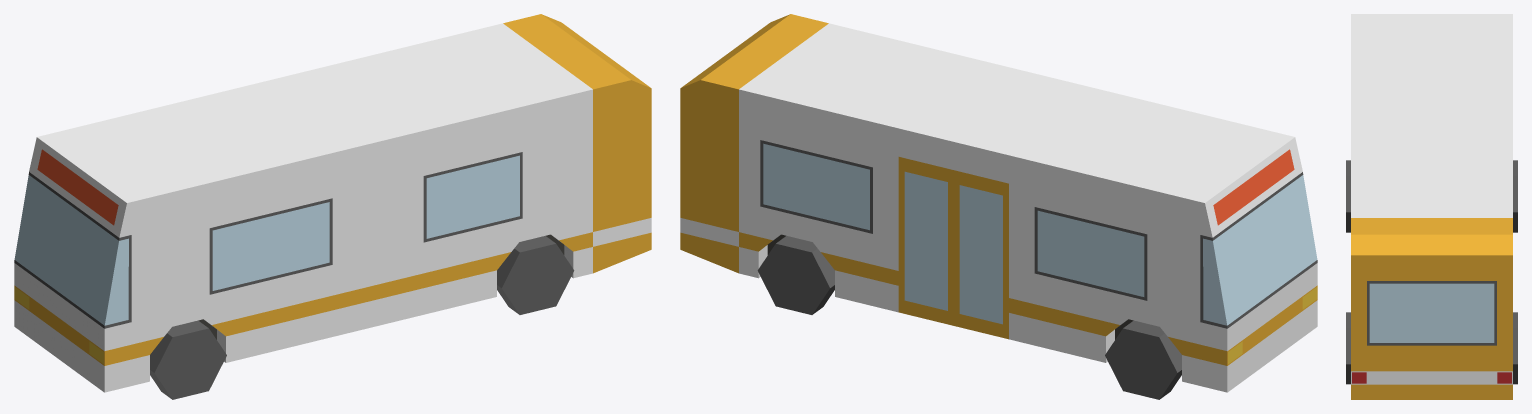
Rendered from Bus_3.fbx.
3 views of the same model, side by side, from view 1: azimuth 30°, elevation 25°; view 2: azimuth 150°, elevation 25°; view 3: azimuth 270°, elevation 25° (orthographic). The views are drawn at different scales.
Parts seen in each view (by area): view 1: Bus_3; view 2: Bus_3; view 3: Bus_3.
Boxes of the visible parts, box(x1,y1,x2,y2) form: Bus_3: box(14, 14, 651, 399); Bus_3: box(680, 14, 1317, 399); Bus_3: box(1346, 14, 1517, 399).
Size of the model in its own units: 11.08 by 3.97 by 3.36.
1 material, 1 textured.
